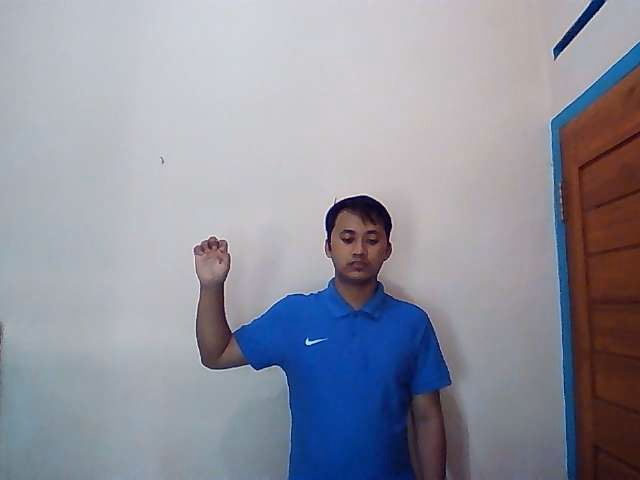E: (192, 235, 233, 283)
